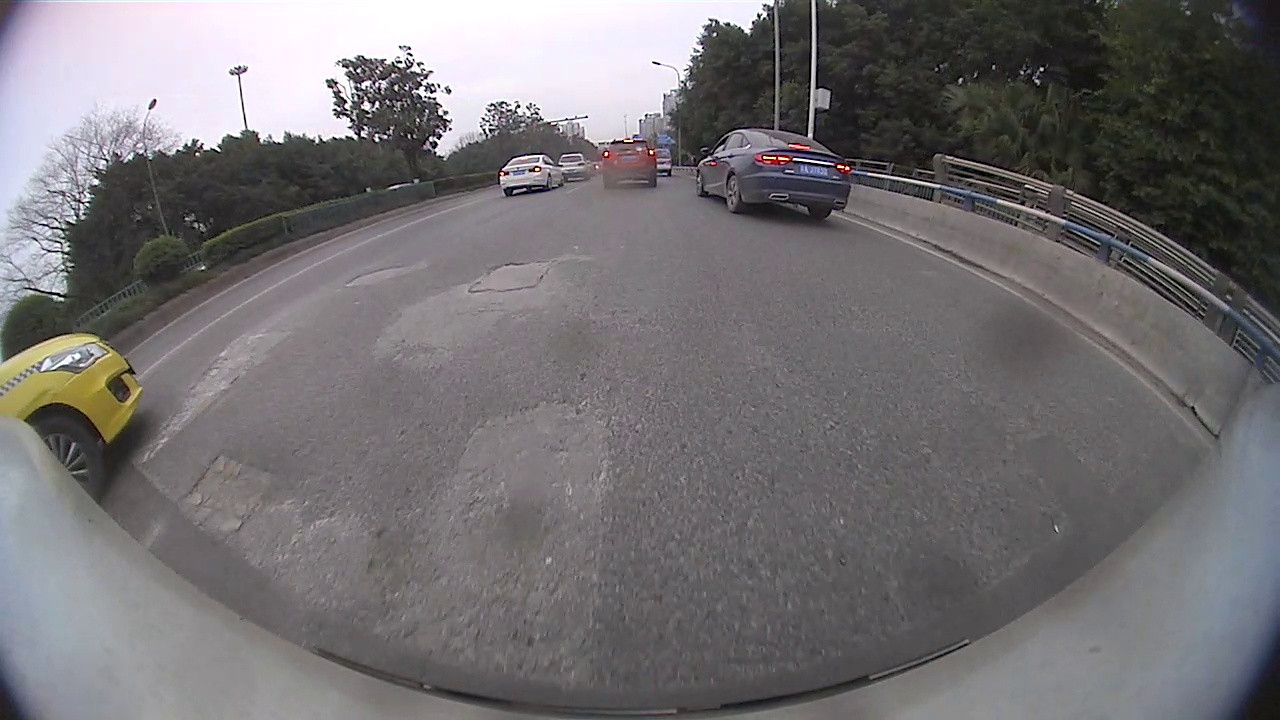car: (1, 328, 146, 503), (693, 126, 853, 223), (495, 151, 567, 197), (602, 138, 660, 192), (557, 148, 593, 184)
front: (24, 408, 104, 509), (691, 172, 707, 199)
rear: (723, 174, 747, 212)
